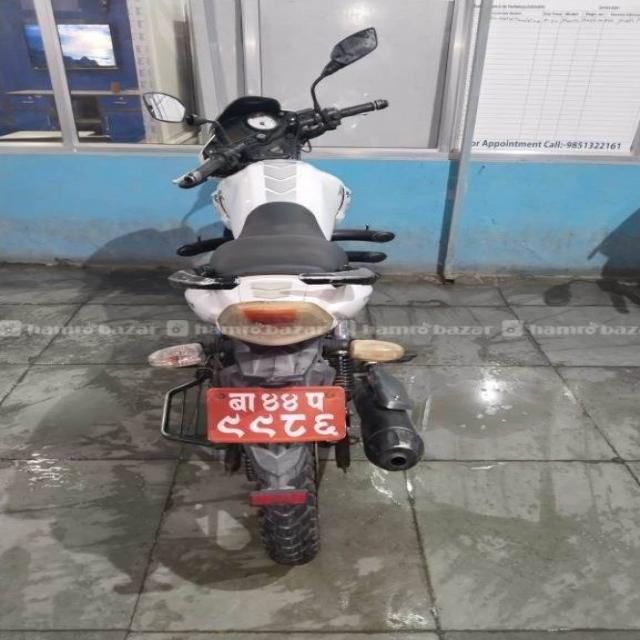License-plate: (204, 388, 348, 447)
